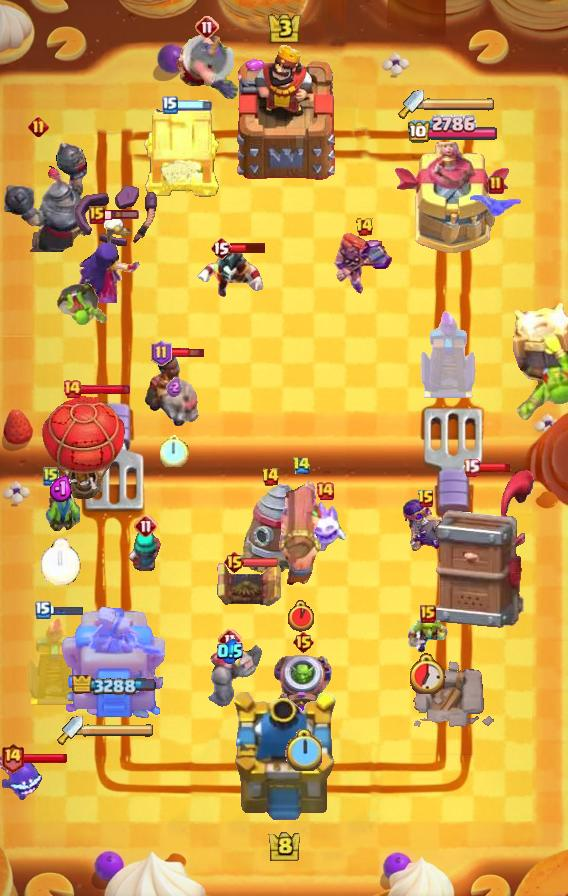axe: (78, 215, 142, 303)
bar: (394, 142, 512, 256), (60, 607, 168, 731)
bar-level: (55, 281, 109, 329)
barbarian: (467, 194, 525, 220)
battle-healer: (277, 473, 325, 587)
bomb: (142, 104, 222, 198)
cannon-cart: (40, 394, 126, 502)
dart-goblin: (434, 468, 534, 630)
electro-spirit: (50, 475, 75, 503), (217, 638, 243, 664), (166, 377, 182, 397)
elite-barbarian: (144, 351, 204, 427)
elixir: (41, 539, 81, 585), (285, 729, 322, 771), (410, 653, 446, 694), (160, 434, 188, 466), (288, 600, 314, 632)
emote: (81, 384, 132, 397), (16, 752, 68, 764), (230, 242, 267, 255), (170, 345, 206, 358), (104, 209, 141, 221), (176, 101, 212, 112), (243, 556, 279, 567), (48, 605, 84, 616), (477, 462, 511, 473)
goblin-ball: (401, 498, 451, 552)
goblin-brawler: (213, 561, 285, 609)
goblin-cage: (271, 652, 335, 722)
ice-spirit-evolution-symbol: (418, 308, 478, 400), (25, 615, 85, 707)
king-tower: (227, 692, 341, 826), (230, 43, 338, 181)
king-tower-bar: (424, 97, 496, 111), (83, 723, 155, 737)
lumberjack: (196, 244, 270, 302)
magic-archer: (240, 482, 300, 576)
mirror: (303, 499, 347, 553)
monk: (174, 35, 240, 101)
royal-guardian: (0, 138, 94, 252)
selected: (407, 115, 499, 145), (72, 675, 156, 697)
spear-goblin: (0, 755, 42, 801)
tesla-evolution: (333, 230, 395, 298)
text: (0, 742, 24, 773), (195, 15, 219, 39), (134, 514, 158, 538), (218, 628, 242, 652), (223, 550, 246, 574), (292, 630, 315, 654), (151, 340, 172, 366), (210, 236, 232, 260), (27, 115, 48, 137), (354, 217, 374, 237), (62, 379, 82, 399), (260, 467, 280, 487), (315, 481, 335, 501), (292, 456, 312, 475), (417, 489, 435, 509), (463, 458, 481, 477), (488, 175, 504, 195), (43, 466, 59, 486), (162, 96, 178, 114), (89, 206, 105, 224), (35, 601, 51, 619), (420, 605, 436, 623)
valkyrie-evolution: (195, 642, 265, 708)
witch: (128, 531, 164, 573)
x-bow: (508, 300, 568, 426)
zap: (42, 478, 80, 536), (407, 619, 449, 655)
